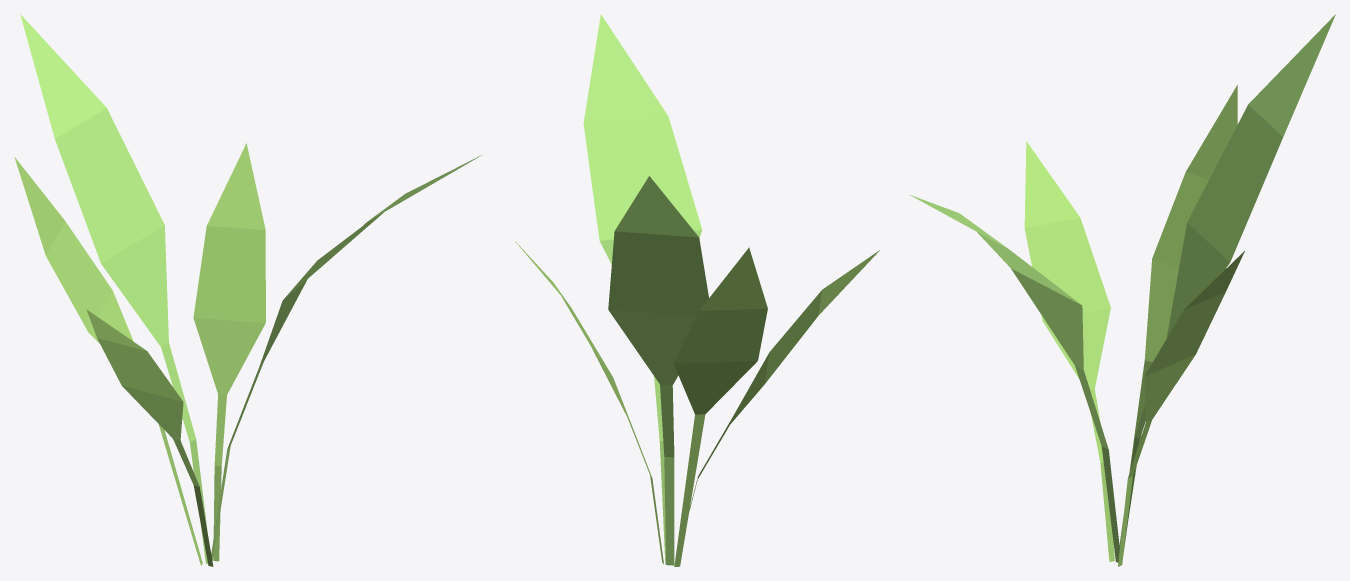
File: Plant_g_TwoS_04.fbx
The picture shows the model from 3 angles, left to right: view 1: azimuth 30°, elevation 25°; view 2: azimuth 150°, elevation 25°; view 3: azimuth 270°, elevation 25°; orthographic projection. The views are drawn at different scales.
Visible parts, largest first — view 1: Plant_g_TwoS_04; view 2: Plant_g_TwoS_04; view 3: Plant_g_TwoS_04.
Boxes of the visible parts, x1=… form: Plant_g_TwoS_04: x1=14, y1=14, x2=481, y2=566; Plant_g_TwoS_04: x1=515, y1=14, x2=879, y2=566; Plant_g_TwoS_04: x1=910, y1=14, x2=1335, y2=566.
Bounding box in the file's own units: 0.4143 × 0.5719 × 0.4367.
